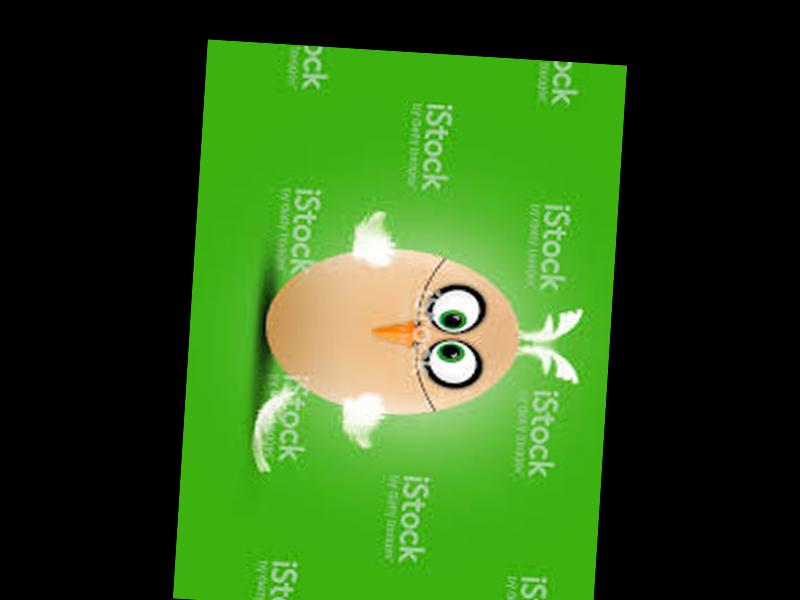Eggs: (258, 243, 524, 422)
